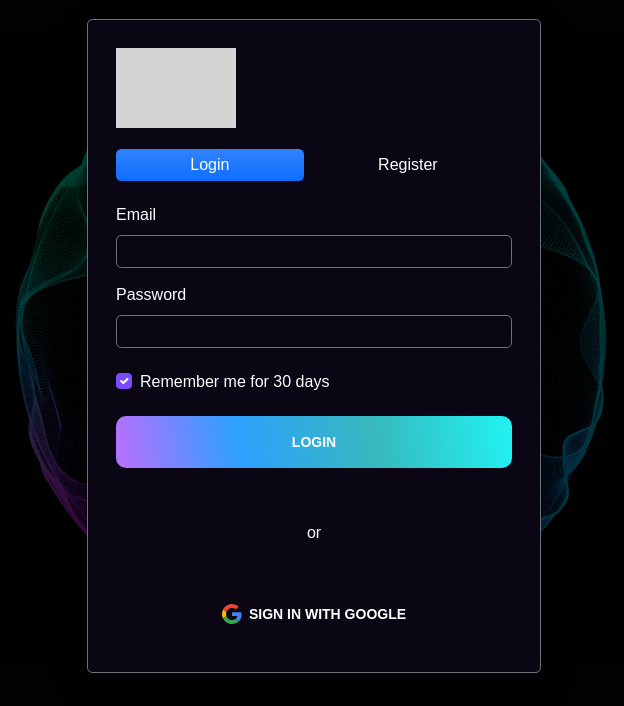
Test: Signin page i18n › renders key labels in English
Expected: the 1st button "Login" is shown, [116,149,304,181]
Expected: the text "Email" is shown, [116,202,156,228]
Note: Switch to Register tab to expose verification section
Click the button "Register".
click(408, 165)  # box [304,149,512,181]
(page scrolled)
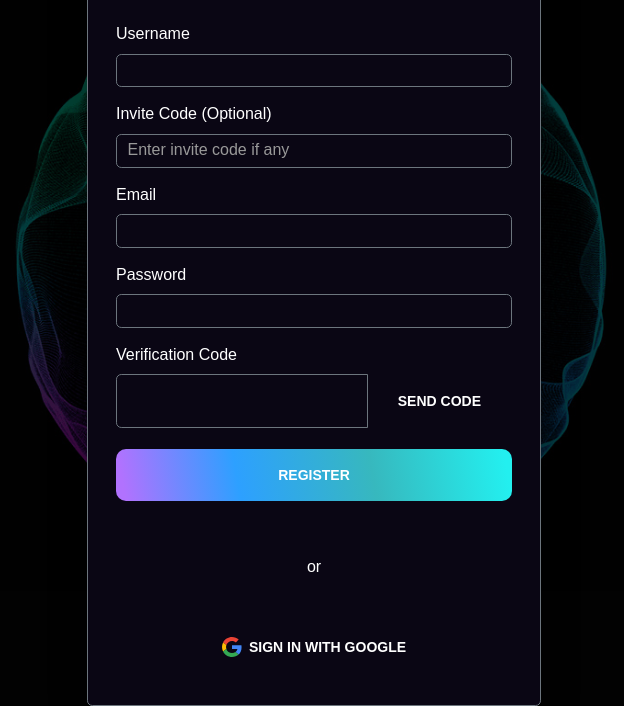
Expected: the text "or" is shown, [307,558,321,575]
Now the button "Send Code" is shown, box [367,374,512,428]
